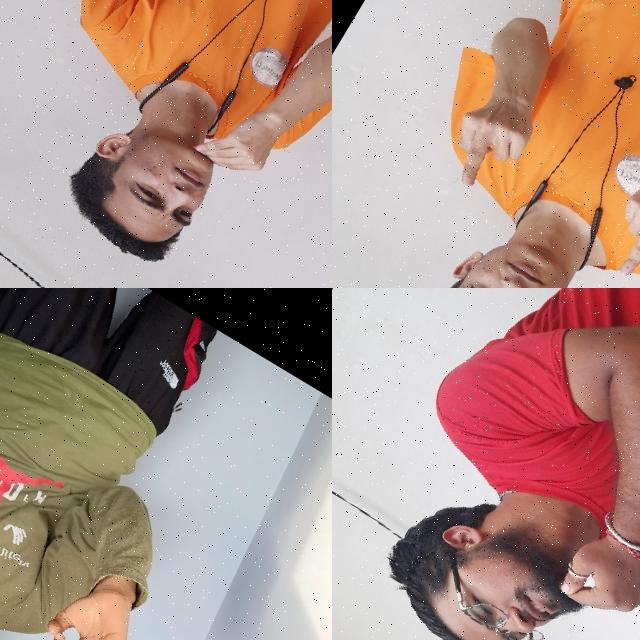Chin Flick: (40, 44, 298, 288), (369, 425, 640, 640)
Middle Finger: (426, 71, 554, 211), (584, 157, 640, 288)
Okay: (11, 547, 165, 640)
